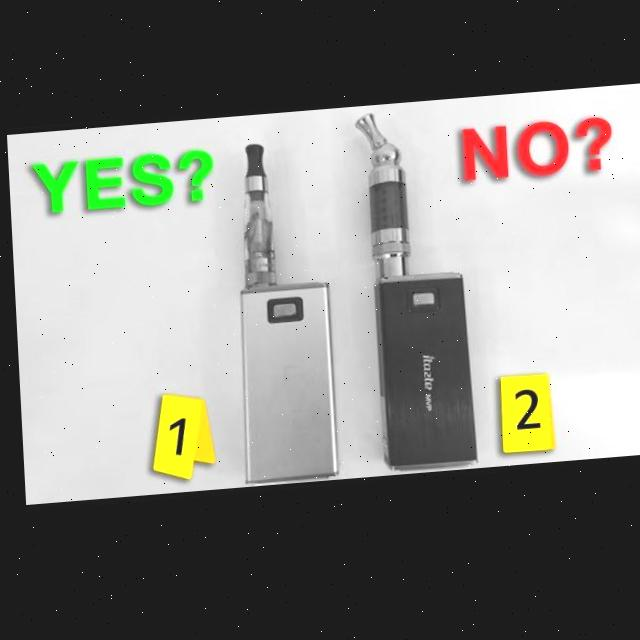vape: (356, 112, 471, 481), (225, 142, 335, 490)
